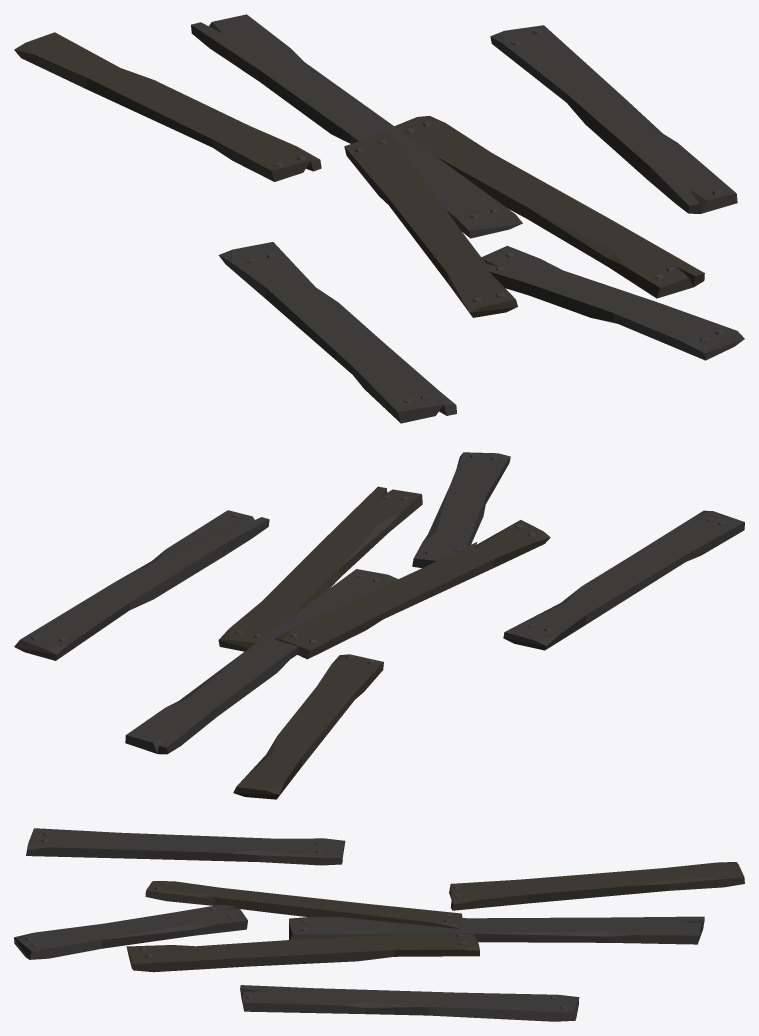
File: SM_Bld_Floor_Damaged_02.fbx
3 renders of one model, top to bottom at view 1: azimuth 30°, elevation 25°; view 2: azimuth 150°, elevation 25°; view 3: azimuth 270°, elevation 25°, orthographic. The views are drawn at different scales.
Visible parts, largest first — view 1: SM_Bld_Floor_Damaged_02; view 2: SM_Bld_Floor_Damaged_02; view 3: SM_Bld_Floor_Damaged_02.
Boxes of the visible parts, box(x1,y1,x2,y2) form: SM_Bld_Floor_Damaged_02: box(14, 14, 744, 423); SM_Bld_Floor_Damaged_02: box(14, 452, 744, 799); SM_Bld_Floor_Damaged_02: box(14, 828, 744, 1021).
Size of the model in its own units: 169 by 7.56 by 280.
